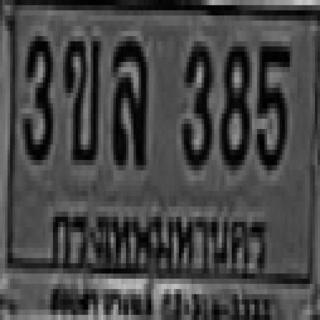A02: (62, 36, 100, 160)
A36: (111, 34, 146, 162)
N03: (20, 31, 50, 160), (180, 39, 210, 163)
N05: (255, 41, 290, 165)
N08: (219, 41, 249, 165)
P04: (45, 197, 271, 287)
